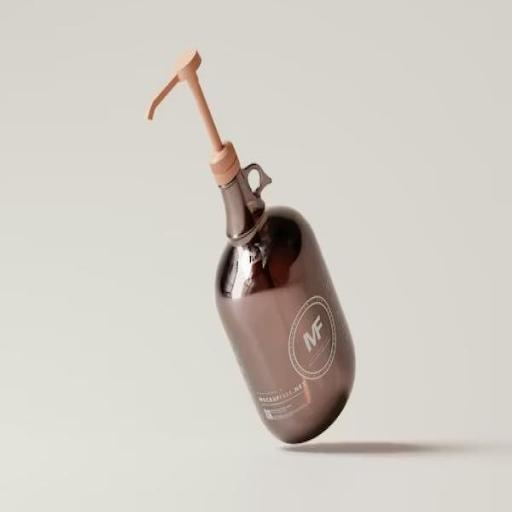bottle: (144, 38, 360, 450)
